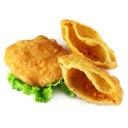poori: (57, 54, 123, 105), (60, 16, 123, 67), (5, 36, 64, 83)
